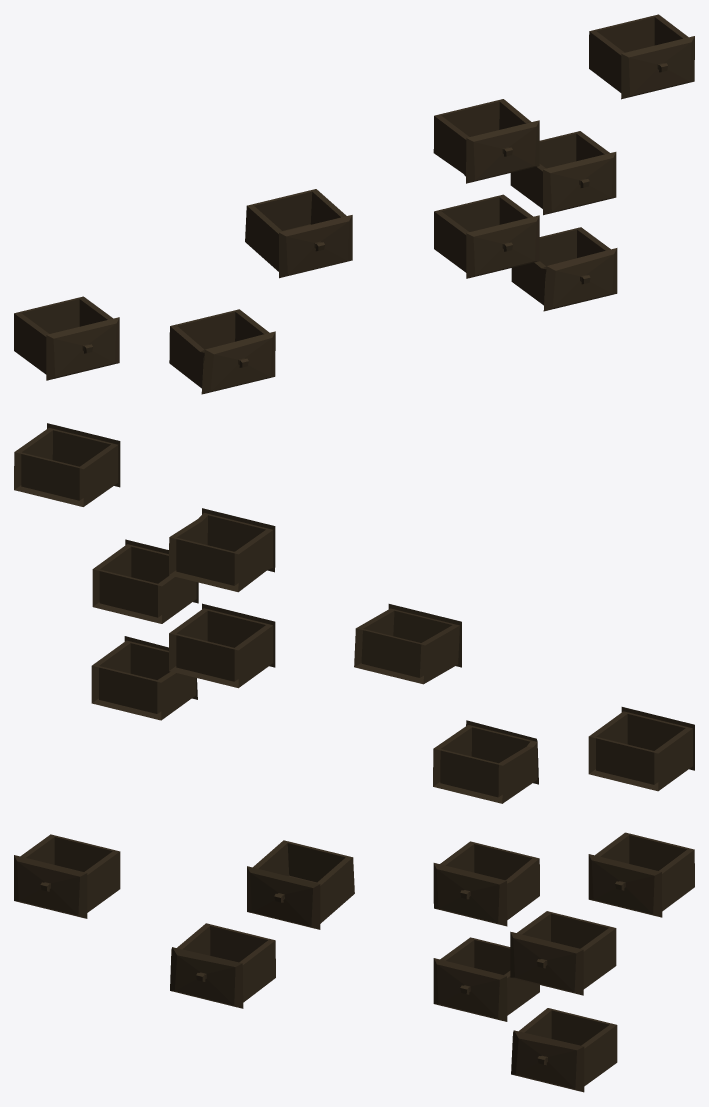
Rendered from 药铺_药柜抽屉.fbx.
3 views of the same model, one above another, from view 1: azimuth 30°, elevation 25°; view 2: azimuth 150°, elevation 25°; view 3: azimuth 330°, elevation 25° (orthographic).
Parts seen in each view (by area): view 1: 药铺_药铺_polySurface2258_294, 药铺_药铺_polySurface2297_314, 药铺_药铺_polySurface2257_292, 药铺_药铺_polySurface2199_286, polySurface547, 药铺_药铺_polySurface2259_296, 药铺_药铺_polySurface2198_284, 药铺_药铺_polySurface2200_288; view 2: polySurface547, 药铺_药铺_polySurface2199_286, 药铺_药铺_polySurface2257_292, 药铺_药铺_polySurface2259_296, 药铺_药铺_polySurface2297_314, 药铺_药铺_polySurface2258_294, 药铺_药铺_polySurface2198_284, 药铺_药铺_polySurface2200_288; view 3: 药铺_药铺_polySurface2258_294, 药铺_药铺_polySurface2257_292, 药铺_药铺_polySurface2259_296, 药铺_药铺_polySurface2200_288, polySurface547, 药铺_药铺_polySurface2297_314, 药铺_药铺_polySurface2198_284, 药铺_药铺_polySurface2199_286.
Boxes of the visible parts, bbox=[...] form: 药铺_药铺_polySurface2258_294: bbox=[245, 189, 352, 278]; 药铺_药铺_polySurface2297_314: bbox=[169, 309, 275, 394]; 药铺_药铺_polySurface2257_292: bbox=[589, 14, 694, 99]; 药铺_药铺_polySurface2199_286: bbox=[434, 194, 539, 278]; polySurface547: bbox=[14, 296, 119, 380]; 药铺_药铺_polySurface2259_296: bbox=[433, 99, 539, 183]; 药铺_药铺_polySurface2198_284: bbox=[511, 227, 617, 311]; 药铺_药铺_polySurface2200_288: bbox=[510, 131, 616, 215]; polySurface547: bbox=[588, 707, 694, 791]; 药铺_药铺_polySurface2199_286: bbox=[169, 603, 275, 688]; 药铺_药铺_polySurface2257_292: bbox=[14, 423, 120, 506]; 药铺_药铺_polySurface2259_296: bbox=[169, 508, 275, 592]; 药铺_药铺_polySurface2297_314: bbox=[433, 720, 538, 803]; 药铺_药铺_polySurface2258_294: bbox=[354, 604, 461, 684]; 药铺_药铺_polySurface2198_284: bbox=[91, 636, 197, 720]; 药铺_药铺_polySurface2200_288: bbox=[92, 539, 198, 623]; 药铺_药铺_polySurface2258_294: bbox=[247, 840, 354, 929]; 药铺_药铺_polySurface2257_292: bbox=[588, 832, 694, 917]; 药铺_药铺_polySurface2259_296: bbox=[433, 841, 539, 926]; 药铺_药铺_polySurface2200_288: bbox=[510, 911, 616, 995]; polySurface547: bbox=[14, 834, 120, 918]; 药铺_药铺_polySurface2297_314: bbox=[170, 923, 275, 1008]; 药铺_药铺_polySurface2198_284: bbox=[511, 1008, 617, 1092]; 药铺_药铺_polySurface2199_286: bbox=[433, 937, 539, 1021].
Bounding box in the file's own units: 492 × 174 × 57.69.
